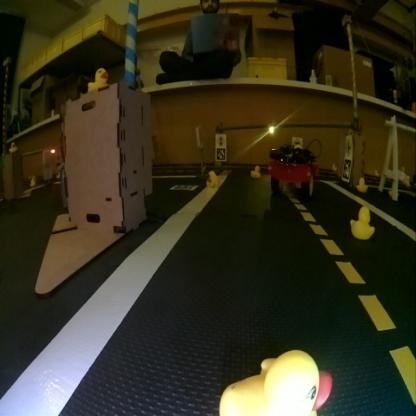Duckie: (220, 348, 331, 414), (350, 207, 374, 238), (87, 67, 107, 89), (206, 171, 218, 186), (356, 178, 366, 192), (251, 166, 259, 176), (8, 142, 15, 150), (30, 178, 36, 184), (332, 163, 336, 171)
Duckiebot: (270, 145, 320, 196)
Intersection sign: (291, 136, 302, 148), (345, 138, 351, 155)
QR code: (170, 183, 198, 190), (342, 160, 350, 180), (215, 148, 226, 160)
Signal sign: (216, 134, 224, 146)
Traffic light: (267, 122, 274, 134)
